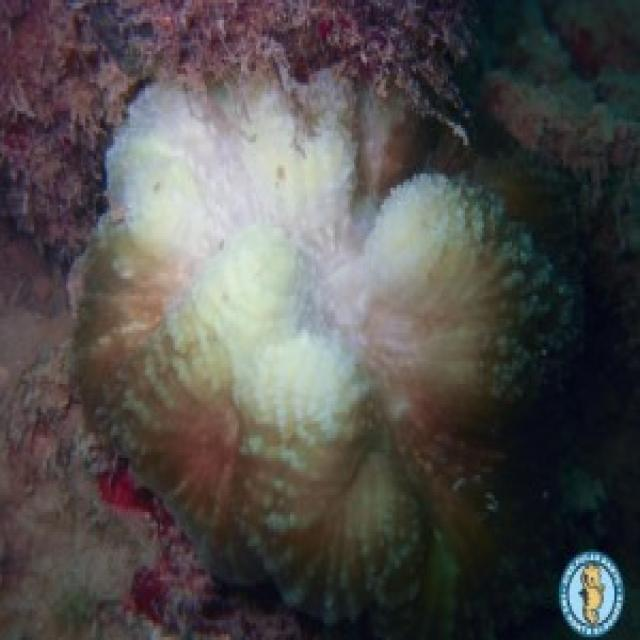Bleached: (108, 72, 502, 445)
Healthy: (78, 240, 428, 615)
